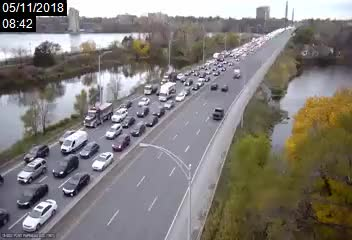congestion: (11, 123, 139, 232), (82, 76, 180, 136), (161, 55, 226, 91), (213, 44, 253, 63)
personal_car: (22, 198, 57, 231), (16, 158, 48, 185), (15, 183, 46, 208), (63, 173, 89, 197), (53, 155, 79, 179), (61, 131, 88, 154), (24, 145, 51, 164), (92, 153, 113, 171), (111, 135, 130, 152), (79, 142, 99, 158), (127, 121, 146, 137), (108, 108, 128, 122), (105, 124, 122, 139), (59, 130, 76, 145), (120, 115, 134, 128), (134, 106, 149, 118), (145, 115, 158, 128), (152, 106, 165, 118), (212, 107, 224, 120), (163, 99, 175, 110), (234, 68, 243, 82), (137, 97, 150, 106), (119, 100, 132, 109), (180, 86, 191, 96), (183, 78, 193, 86), (210, 82, 217, 92), (195, 80, 204, 87), (191, 84, 200, 91), (221, 83, 228, 92), (192, 69, 199, 77), (184, 69, 191, 76), (199, 71, 206, 78)
truck: (84, 102, 113, 129), (158, 82, 176, 102), (161, 71, 177, 87), (144, 83, 157, 96), (212, 52, 221, 62)
